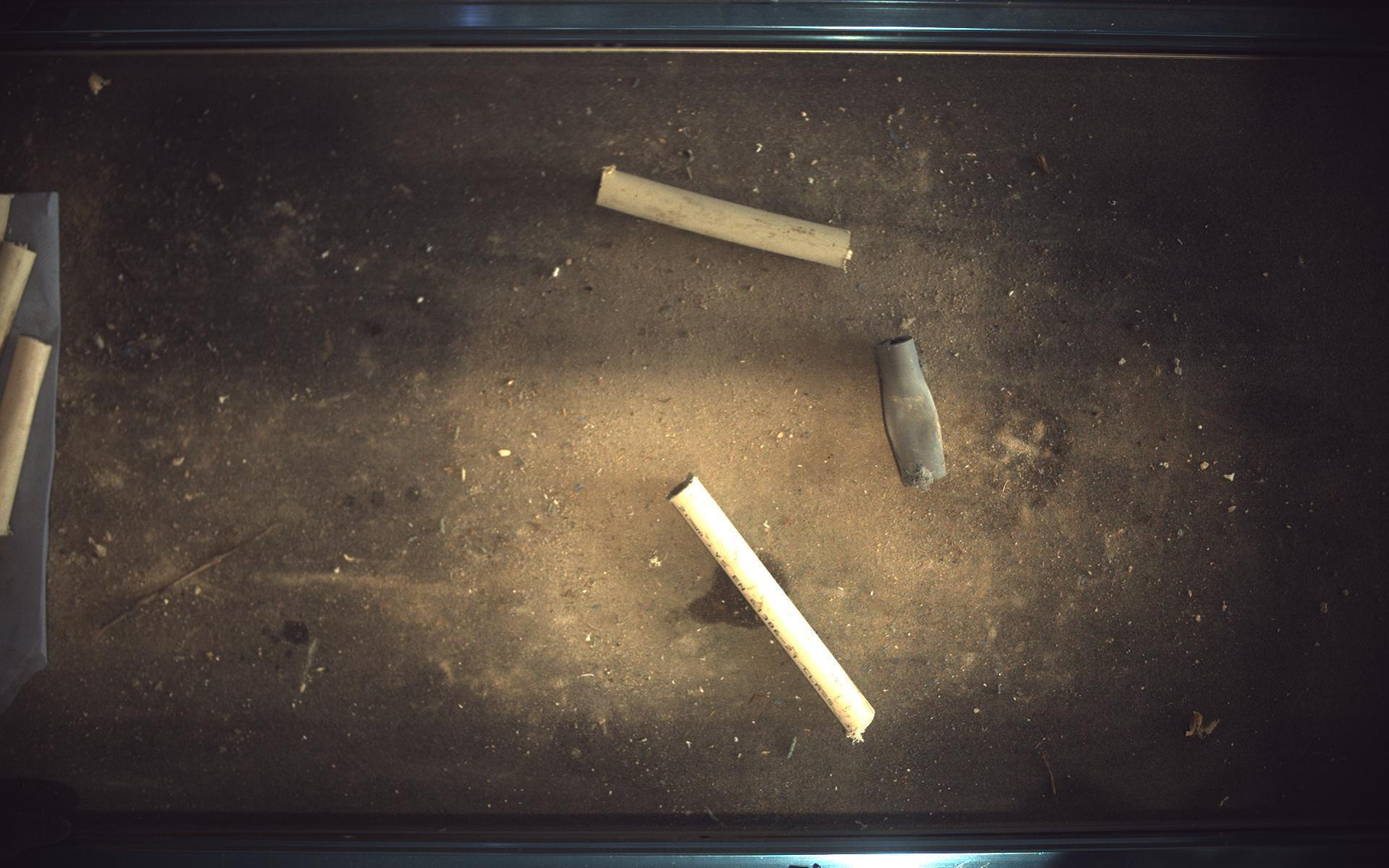pipes: (669, 475, 875, 743), (597, 164, 853, 268), (878, 336, 948, 490), (1, 336, 50, 537), (1, 231, 41, 357)
